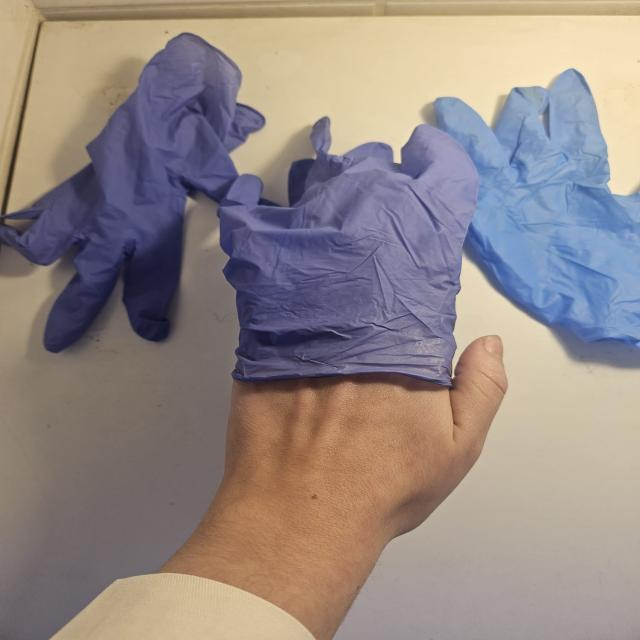glove_partial: (216, 114, 510, 536)
